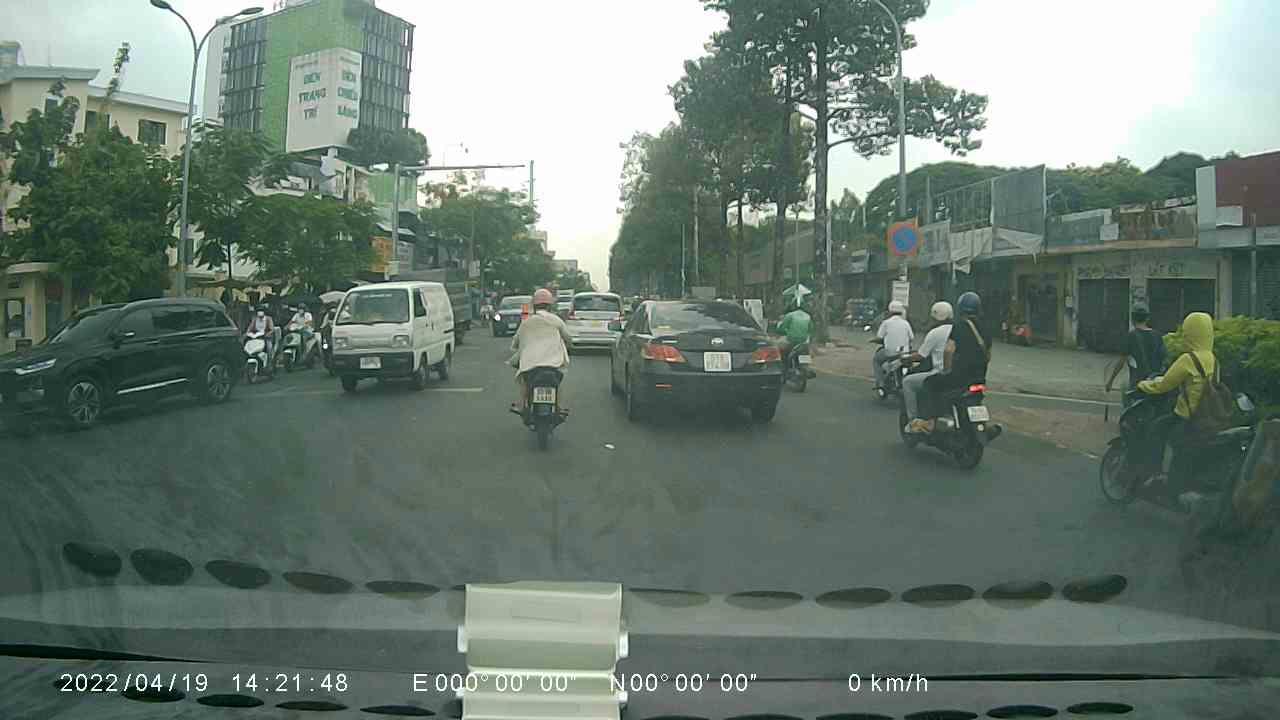Cam do xe: (885, 221, 926, 260)
